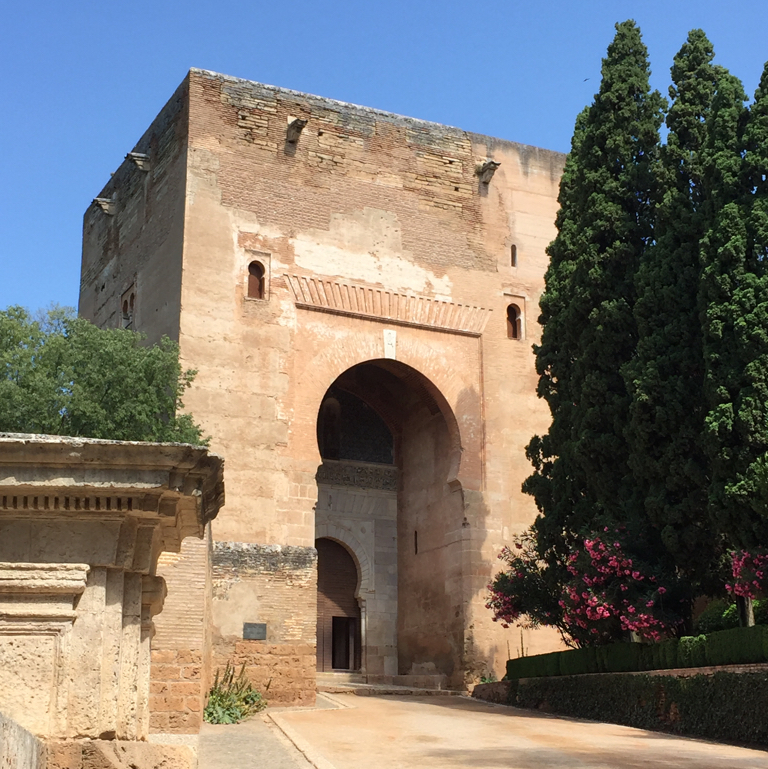arco-herradura: (308, 350, 471, 488), (314, 533, 368, 610)
dintel-adovelado: (281, 274, 493, 336)
